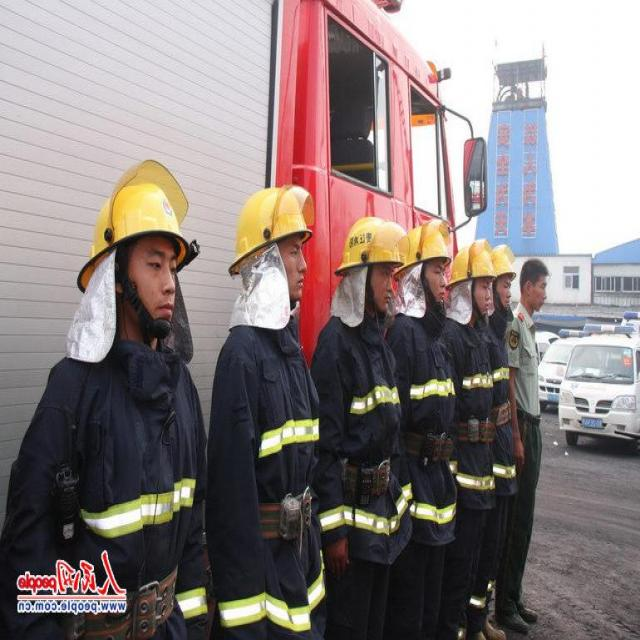Reflective-Jacket: (29, 341, 216, 624), (211, 330, 325, 632), (323, 329, 404, 544), (406, 322, 458, 526), (459, 327, 494, 493)
Safety-Helmet: (76, 157, 196, 286), (225, 181, 318, 273), (333, 211, 409, 281), (402, 216, 455, 273), (444, 236, 495, 287), (490, 240, 518, 280)
